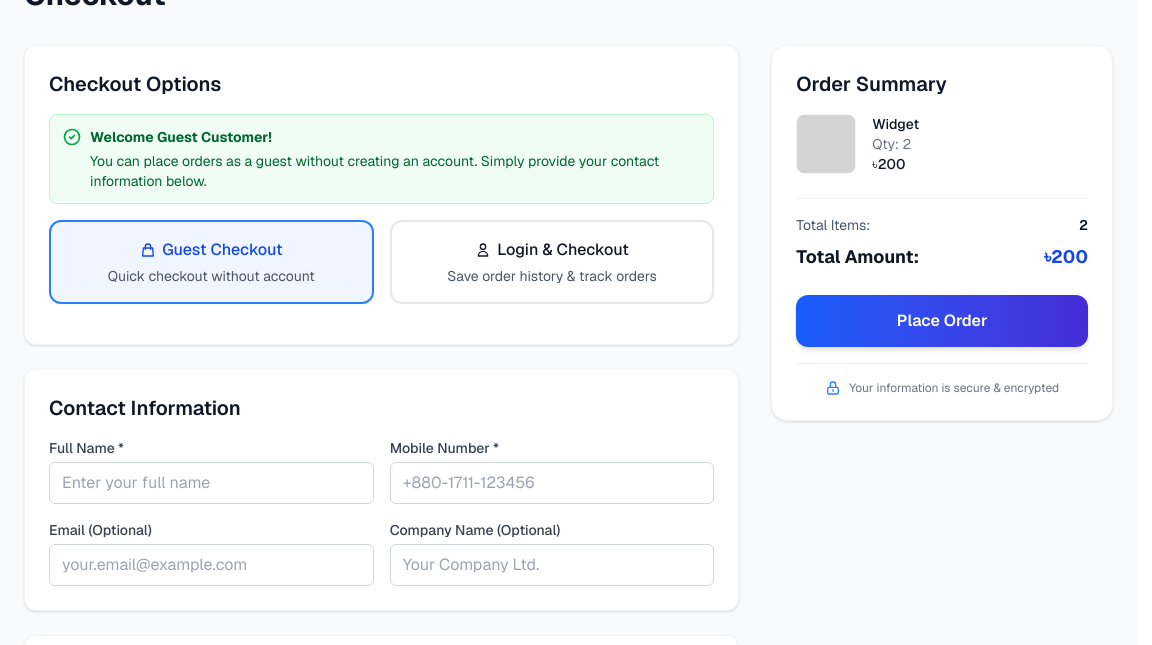
Scenario: Checkout address validation › shows field-specific inline errors, not a generic toast, when both addresses are empty
Type "Jane Doe" into the field with placeholder "Enter your full name" at (211, 483), box [49, 462, 374, 504]
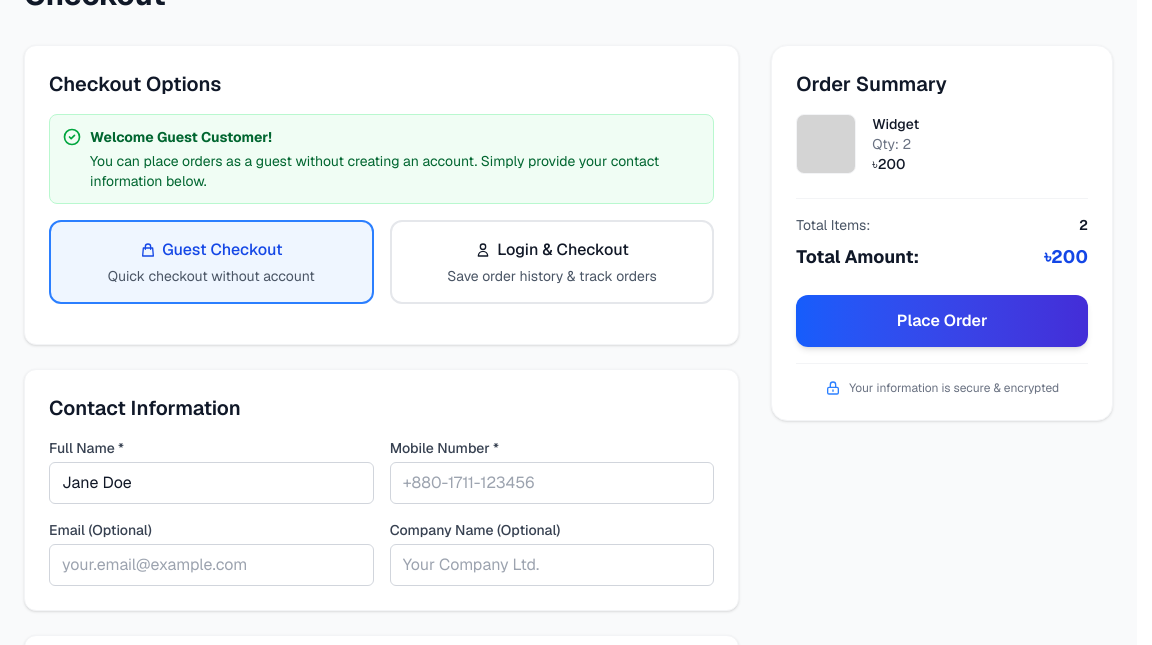
Type "01711123456" into the field with placeholder "+880-1711-123456" at (552, 483), box [390, 462, 714, 504]
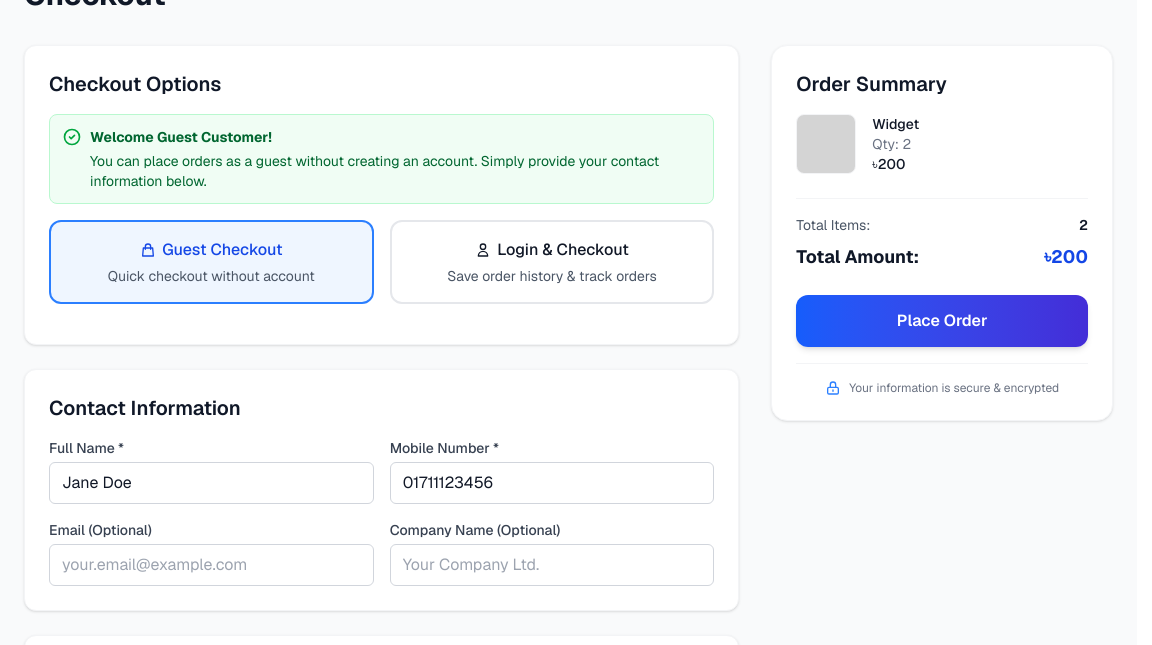
Click the button "Place Order" at (942, 321), box [796, 295, 1088, 347]
(page scrolled)
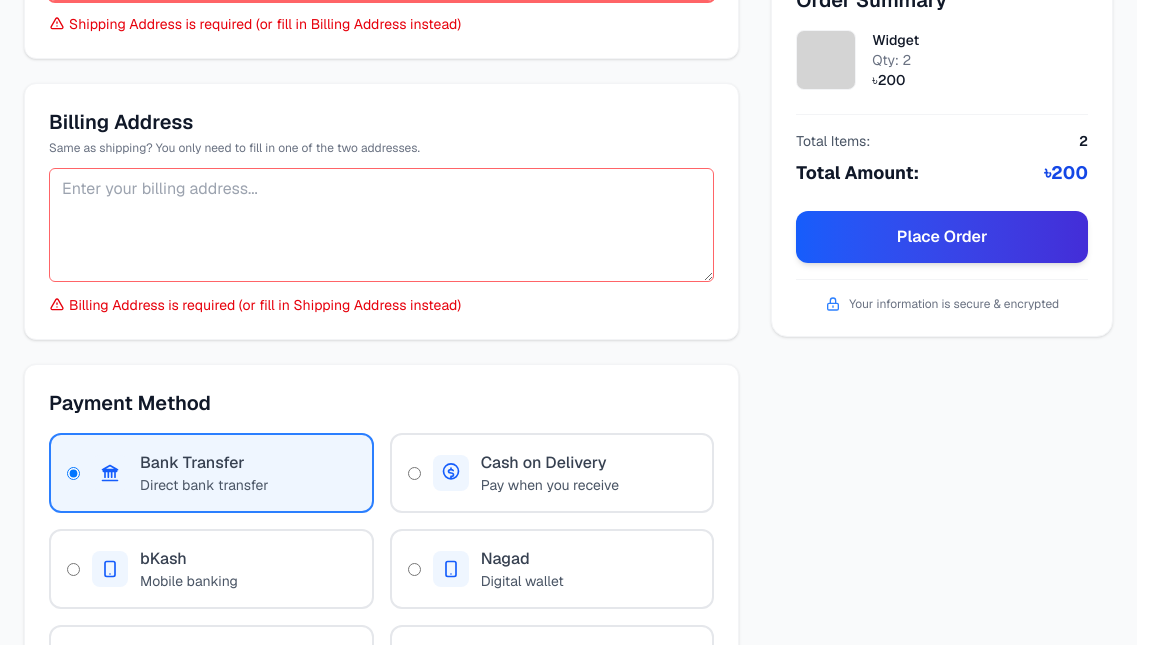
Check: the text "Shipping Address is required" is shown, box [69, 15, 461, 33]
Check: the text "Billing Address is required" is shown, box [69, 296, 461, 314]
